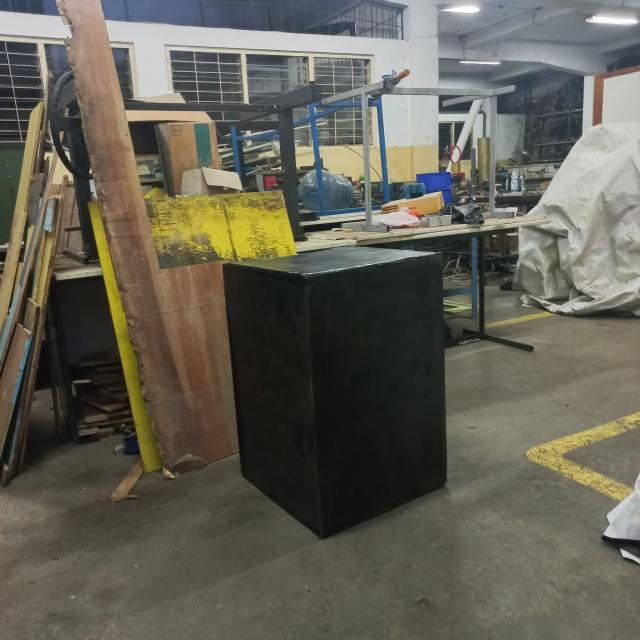obstacle: (223, 242, 451, 542)
